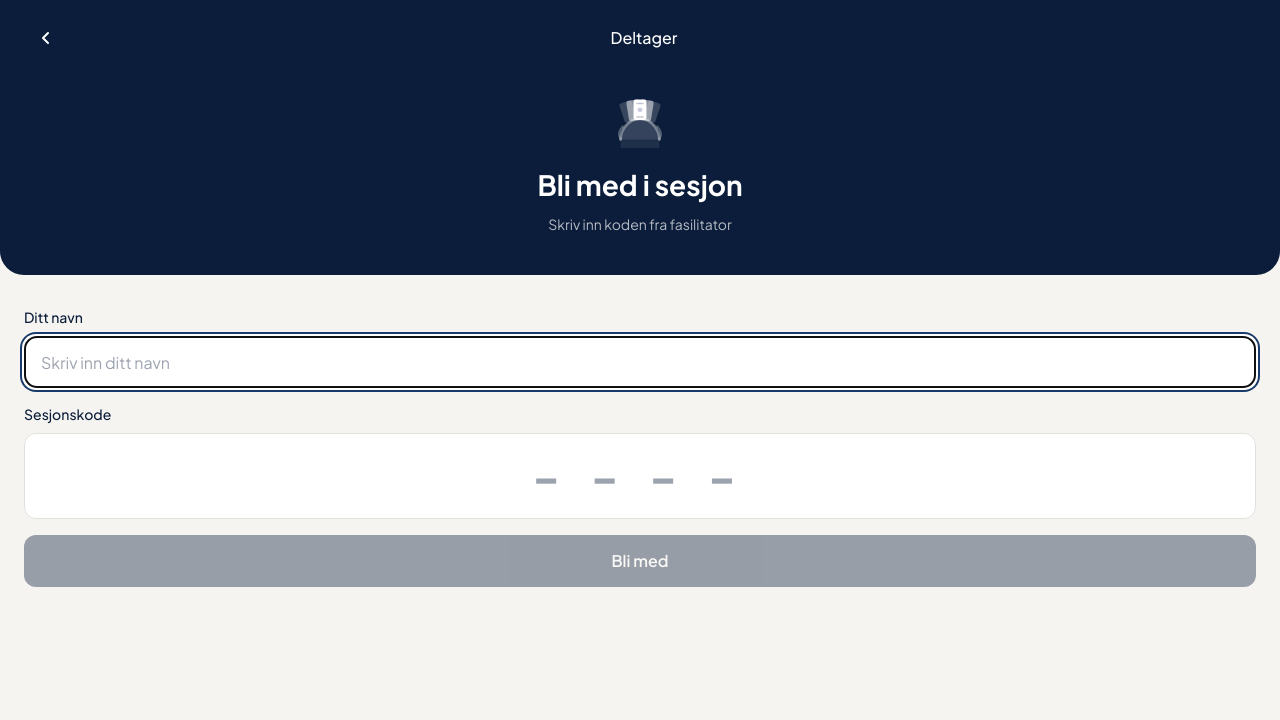
Test: DeltagerJoinPage › viser feilmelding ved mislykket join (feil kode)
In the field labelled "Ditt navn": (640, 362) [24,336,1256,388], type "Ola"
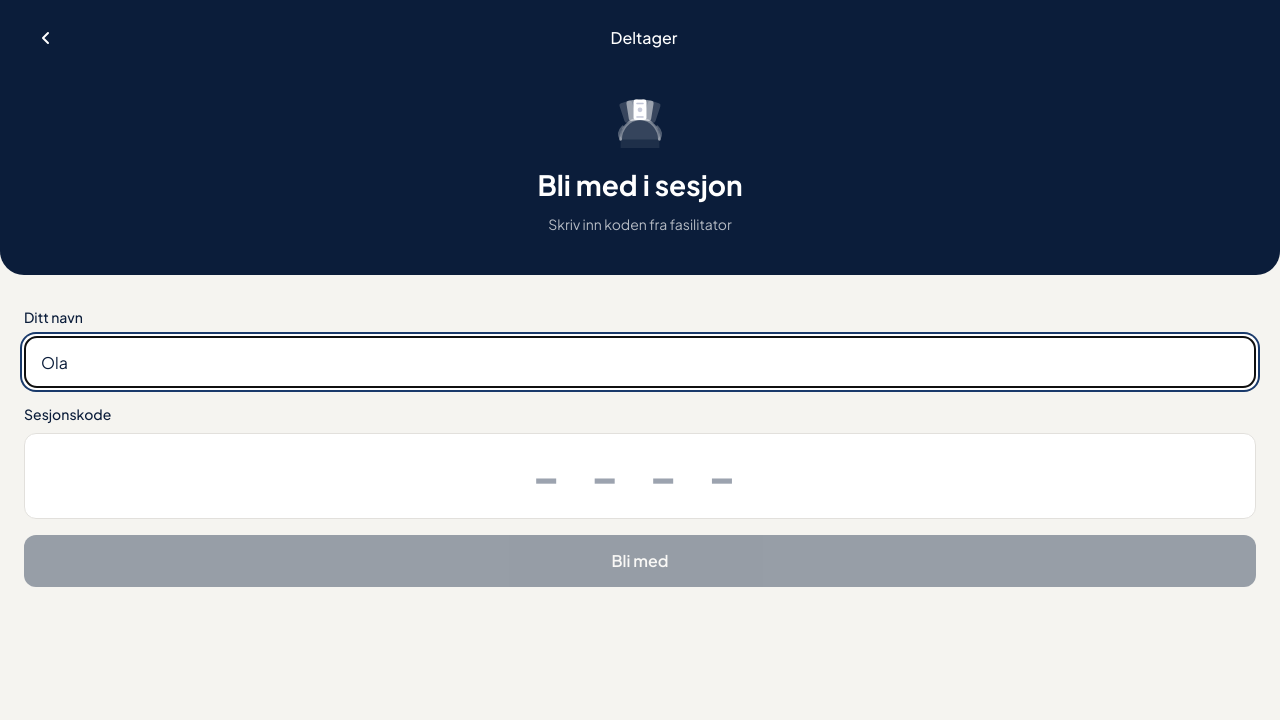
In the field labelled "Sesjonskode": (640, 476) [24,433,1256,519], type "ZZZZ"
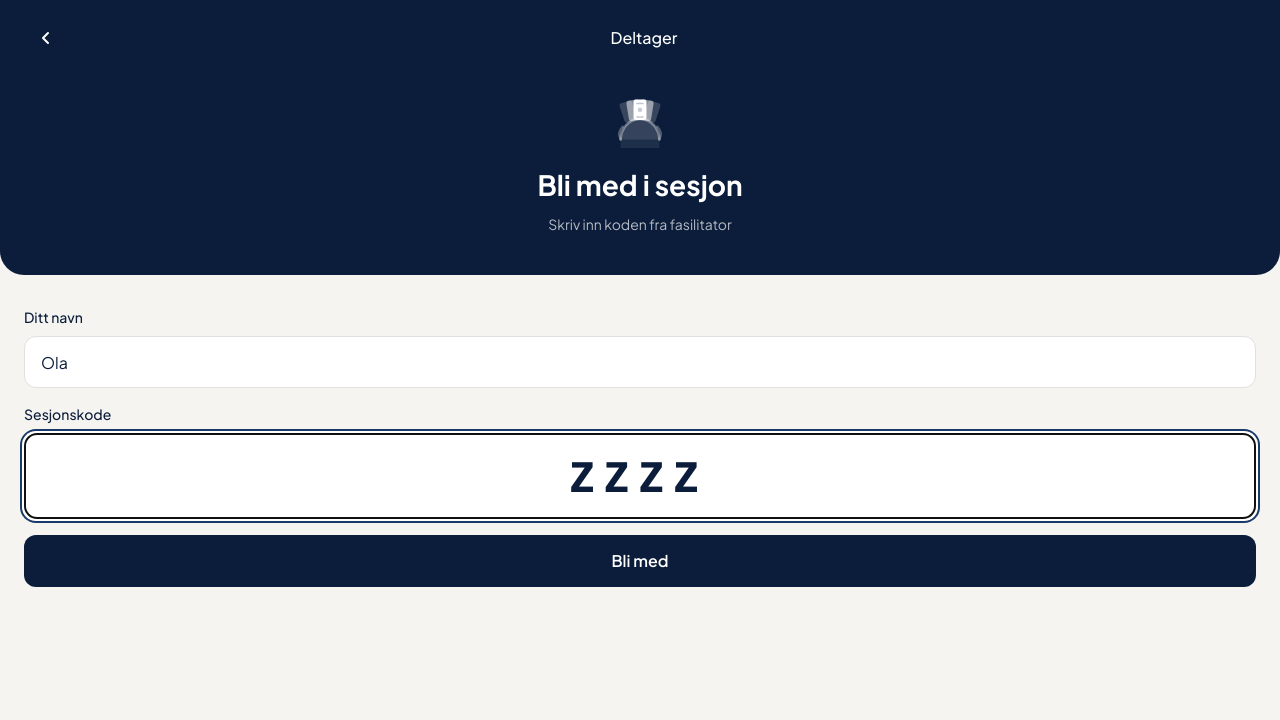
Click the button "Bli med": (640, 561) [24,535,1256,587]
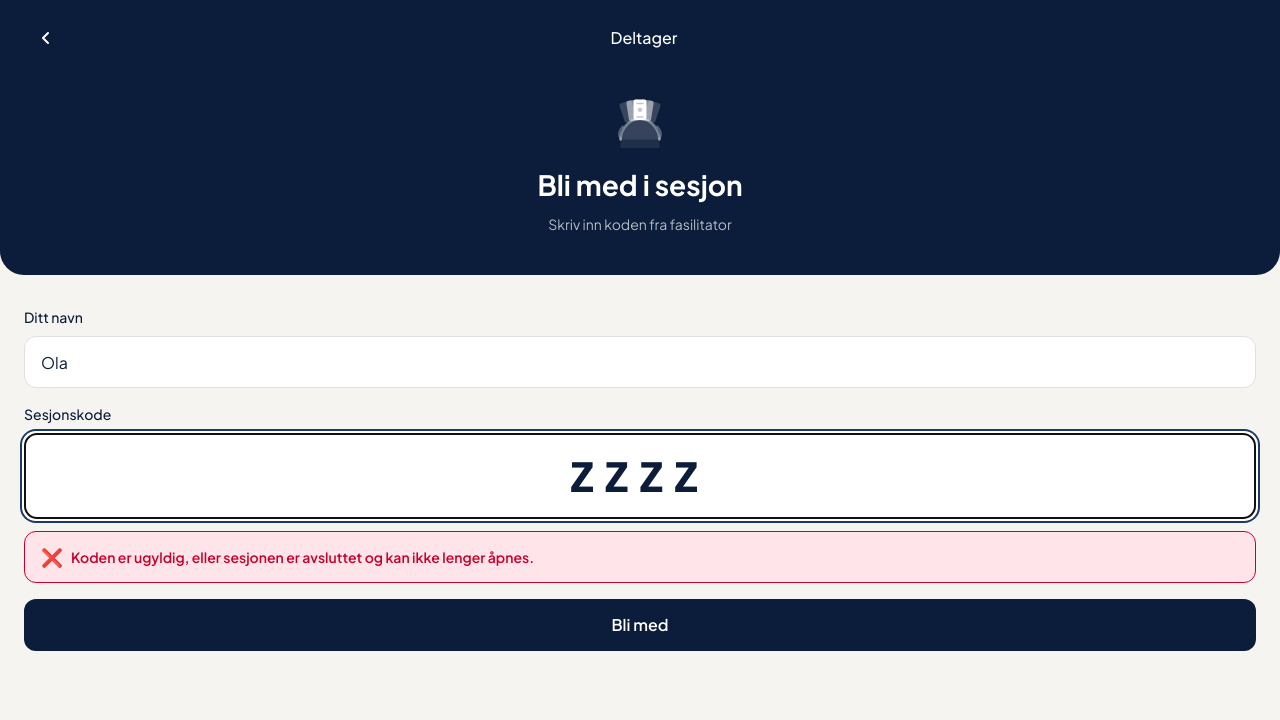
Check: the message "❌ Koden er ugyldig, eller sesjonen er avsluttet og kan ikke lenger åpnes." is shown, box [24,531,1256,583]
Check: the message shows "Koden er ugyldig", box [71,548,534,566]
